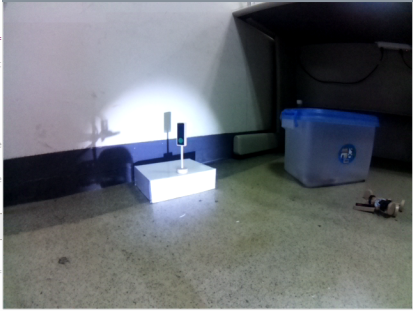Green: (174, 120, 189, 148)
